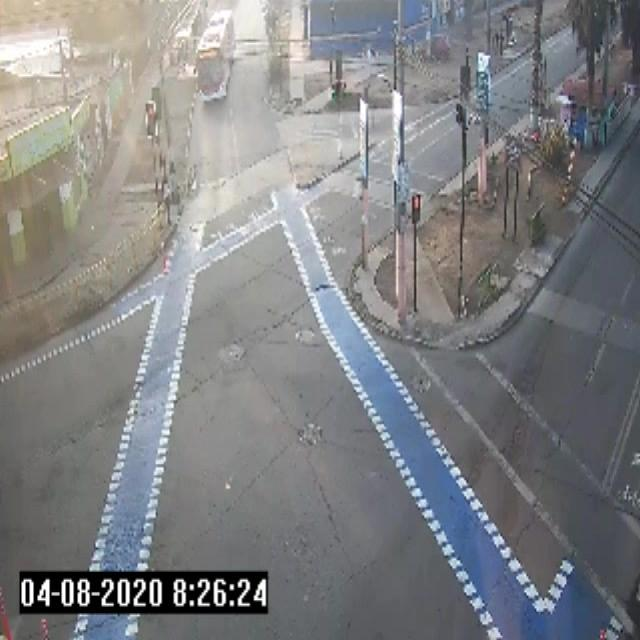AB: (194, 5, 235, 108)
